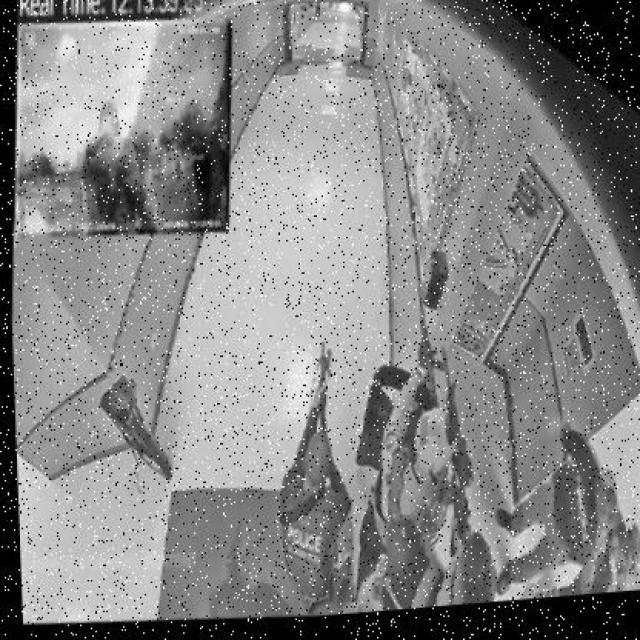weapon: (437, 350, 477, 551), (409, 320, 443, 492), (306, 340, 336, 507)
